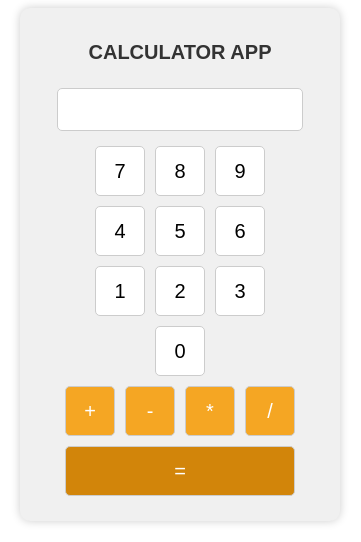
Scenario: reactCalculator › should user input after clicking several numbers
This screenshot has width=361, height=542.
Click the button "1" at [120, 291], box x1=95 y1=266 x2=145 y2=316
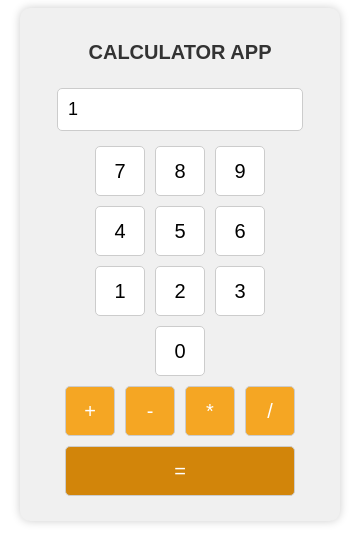
Click the button "2" at [180, 291], box x1=155 y1=266 x2=205 y2=316
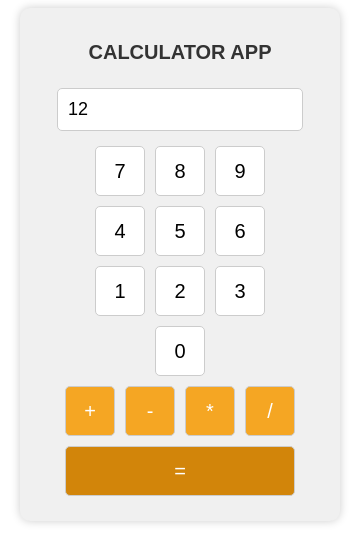
Click the button "3" at [240, 291], box x1=215 y1=266 x2=265 y2=316
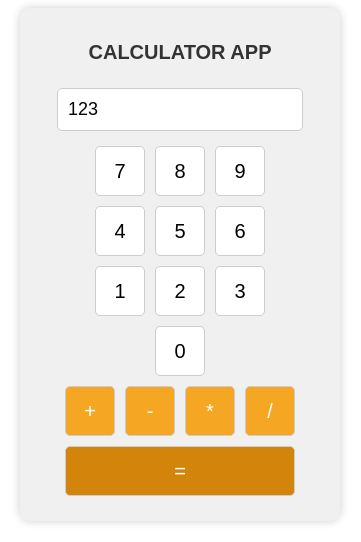
Result: the field holds "123" at x1=57 y1=88 x2=303 y2=131
